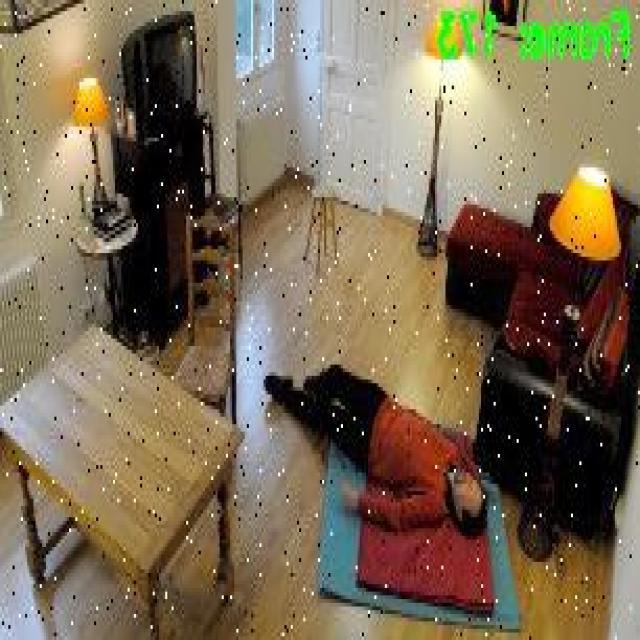fall: (263, 359, 487, 538)
